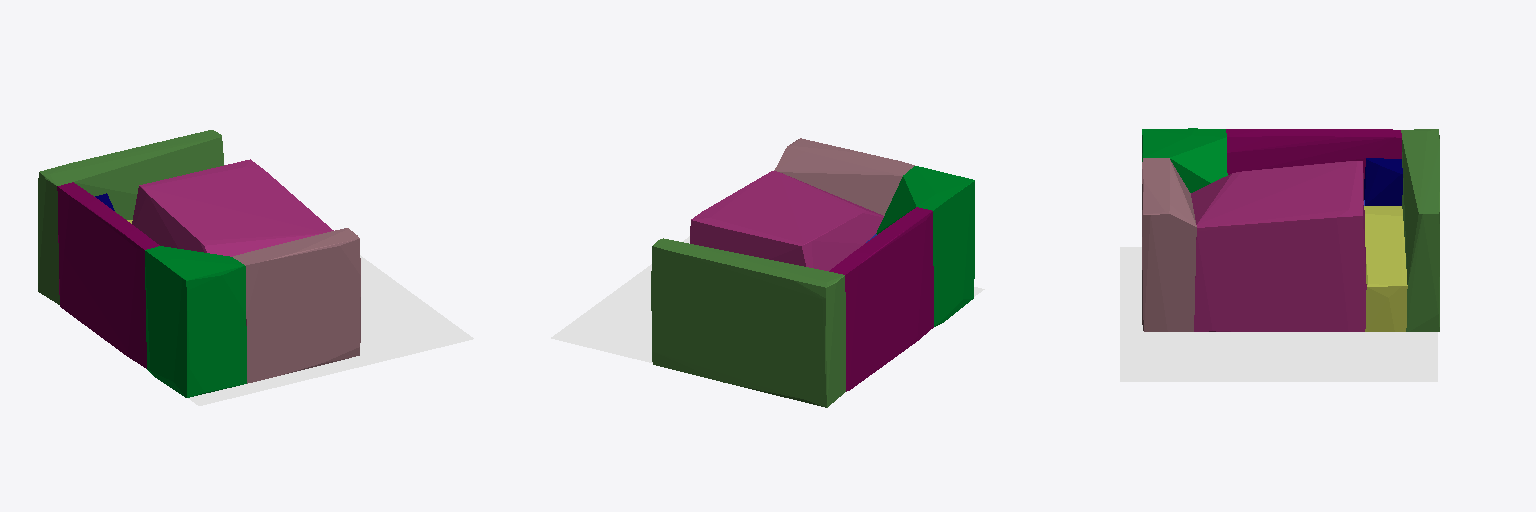
3 views of the same model, side by side, from view 1: azimuth 30°, elevation 25°; view 2: azimuth 150°, elevation 25°; view 3: azimuth 270°, elevation 25° (orthographic).
Visible parts, largest first — view 1: Shape_IndexedFaceSet.002, Shape_IndexedFaceSet.001, Shape_IndexedFaceSet.004, Shape_IndexedFaceSet.003, Shape_IndexedFaceSet, group_0_ID4; view 2: Shape_IndexedFaceSet, Shape_IndexedFaceSet.004, Shape_IndexedFaceSet.003, Shape_IndexedFaceSet.001, Shape_IndexedFaceSet.002, group_0_ID4; view 3: Shape_IndexedFaceSet.004, group_0_ID4, Shape_IndexedFaceSet.002, Shape_IndexedFaceSet, Shape_IndexedFaceSet.003, Shape_IndexedFaceSet.005, Shape_IndexedFaceSet.001, Shape_IndexedFaceSet.007.
Part boxes in pixels (x1,y1,x2,y2): Shape_IndexedFaceSet.002: (233,228,360,383); Shape_IndexedFaceSet.001: (145,246,246,397); Shape_IndexedFaceSet.004: (132,159,333,256); Shape_IndexedFaceSet.003: (57,182,159,368); Shape_IndexedFaceSet: (38,130,223,304); group_0_ID4: (188,255,473,405); Shape_IndexedFaceSet: (651,238,845,407); Shape_IndexedFaceSet.004: (690,171,883,270); Shape_IndexedFaceSet.003: (829,207,933,391); Shape_IndexedFaceSet.001: (876,166,974,326); Shape_IndexedFaceSet.002: (774,138,914,215); group_0_ID4: (551,236,984,362); Shape_IndexedFaceSet.004: (1191,161,1366,331); group_0_ID4: (1120,247,1437,381); Shape_IndexedFaceSet.002: (1142,158,1196,331); Shape_IndexedFaceSet: (1401,129,1439,331); Shape_IndexedFaceSet.003: (1226,129,1401,178); Shape_IndexedFaceSet.005: (1364,206,1407,331); Shape_IndexedFaceSet.001: (1142,128,1227,192); Shape_IndexedFaceSet.007: (1364,158,1402,205).
Size of the model in its own units: 15.33 by 6.34 by 15.33.